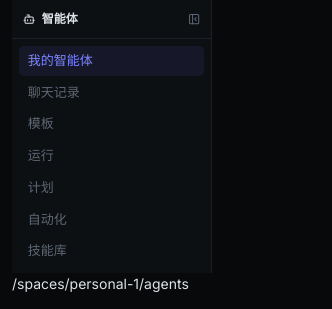
Test: SceneSidebar changes by scene › offers the Chinese Skill library link and keeps navigation after clicking (mobile=false)
Click the link "技能库": coordinates (47, 250) [28, 242, 67, 258]
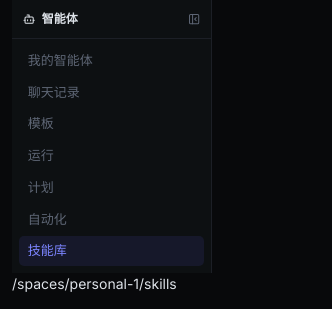
Now the text with test id "destination" reads "/spaces/personal-1/skills", box [12, 275, 177, 292]
